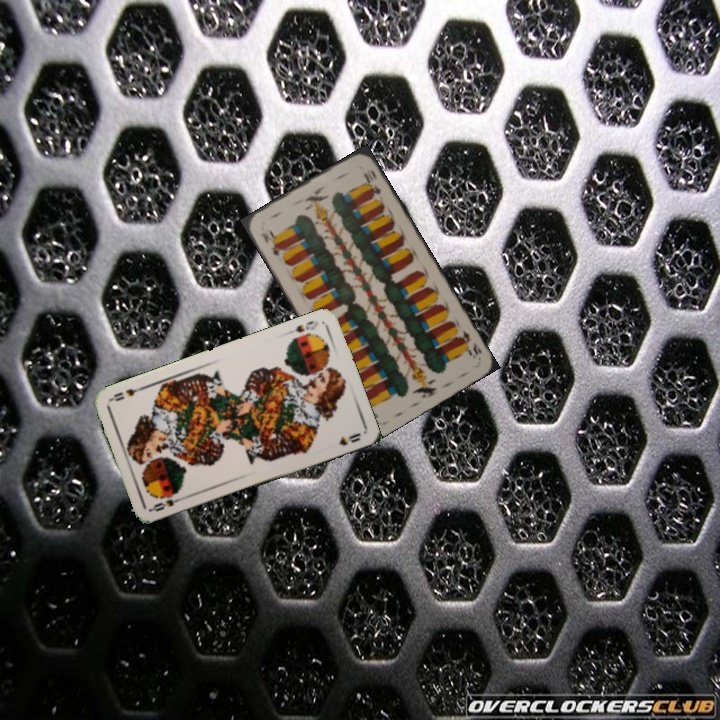E10: (454, 326, 484, 361), (256, 227, 283, 259)
SO: (147, 493, 187, 514), (291, 317, 321, 335)
